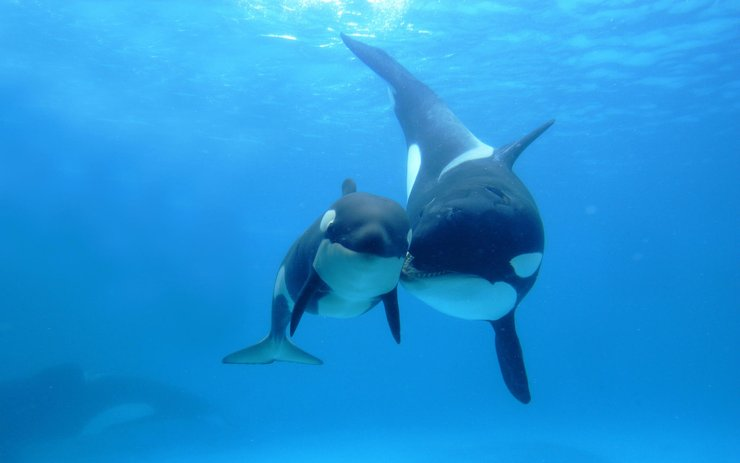fish: (330, 30, 557, 405), (222, 173, 421, 372)
